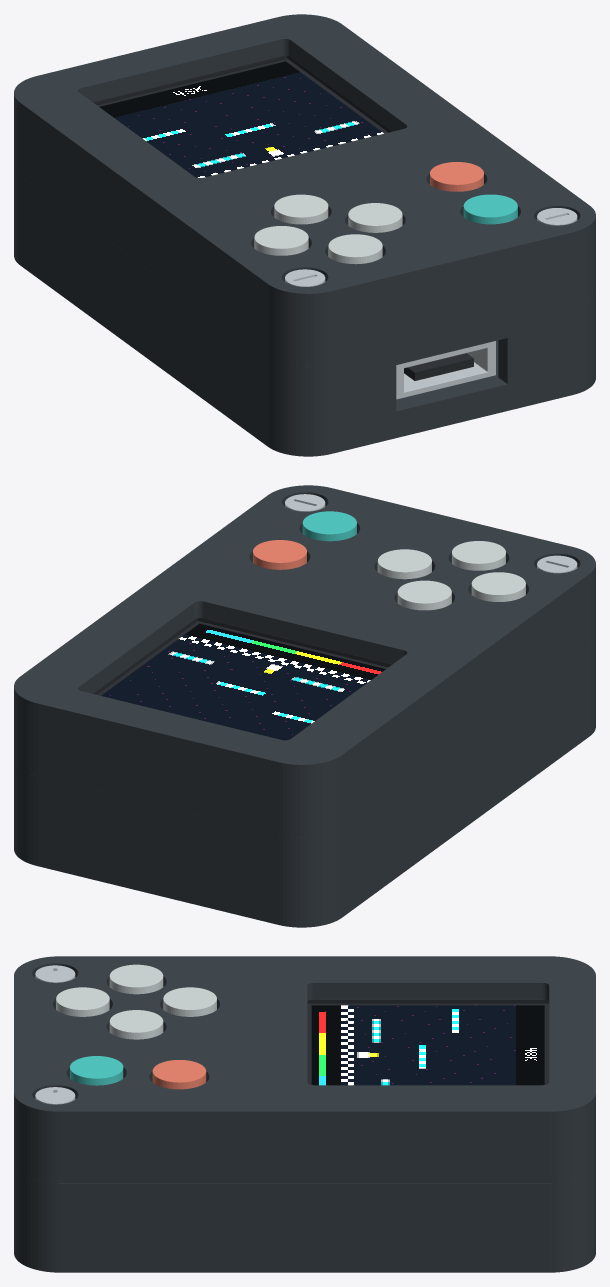
The model's file is speccy_micro.glb.
3 renders of one model, top to bottom at view 1: azimuth 30°, elevation 25°; view 2: azimuth 150°, elevation 25°; view 3: azimuth 270°, elevation 25°, orthographic.
Visible parts, largest first — view 1: UpperFinished, LowerWithBosses, LCDActive, USBPower, ButtonUp, ButtonMenu, ButtonLeft, ButtonDown, ButtonRight, ButtonFire, LCDFoam, USBTongue (+3 smaller); view 2: UpperFinished, LowerWithBosses, LCDActive, ButtonMenu, ButtonUp, ButtonRight, ButtonLeft, ButtonFire, ButtonDown, LCDFoam, LCDPanel, Screw0 (+1 smaller); view 3: UpperFinished, LowerWithBosses, LCDActive, LCDPanel, ButtonLeft, ButtonRight, ButtonFire, ButtonDown, ButtonMenu, ButtonUp, LCDFoam, Screw0 (+1 smaller).
Boxes of the visible parts, x1,y1,x2,y2 form: UpperFinished: (14,14,595,366); LowerWithBosses: (14,167,595,456); LCDActive: (99,61,383,177); USBPower: (396,341,495,399); ButtonUp: (274,194,328,224); ButtonMenu: (463,194,517,224); ButtonLeft: (254,226,308,255); ButtonDown: (328,234,382,264); ButtonRight: (348,203,402,232); ButtonFire: (430,162,483,191); LCDFoam: (93,55,392,132); USBTongue: (404,353,473,380); UpperFinished: (14,485,595,837); LowerWithBosses: (14,638,595,927); LCDActive: (101,623,385,740); ButtonMenu: (302,511,356,541); ButtonUp: (397,580,451,610); ButtonRight: (377,549,431,579); ButtonLeft: (471,572,525,601); ButtonFire: (253,540,306,569); ButtonDown: (452,541,505,570); LCDFoam: (93,618,392,694); LCDPanel: (97,621,387,695); Screw0: (537,555,577,573); UpperFinished: (14,956,595,1183); LowerWithBosses: (14,1166,595,1272); LCDActive: (311,1005,544,1085); LCDPanel: (307,1003,549,1084); ButtonLeft: (109,964,163,994); ButtonRight: (109,1010,163,1039); ButtonFire: (152,1060,206,1089); ButtonDown: (56,987,109,1016); ButtonMenu: (70,1056,123,1085); ButtonUp: (163,987,216,1016); LCDFoam: (307,999,549,1003); Screw0: (35,965,75,982).
Size of the model in its own units: 0.024 by 0.012 by 0.038.
Materials: 12 (1 with a texture image).
